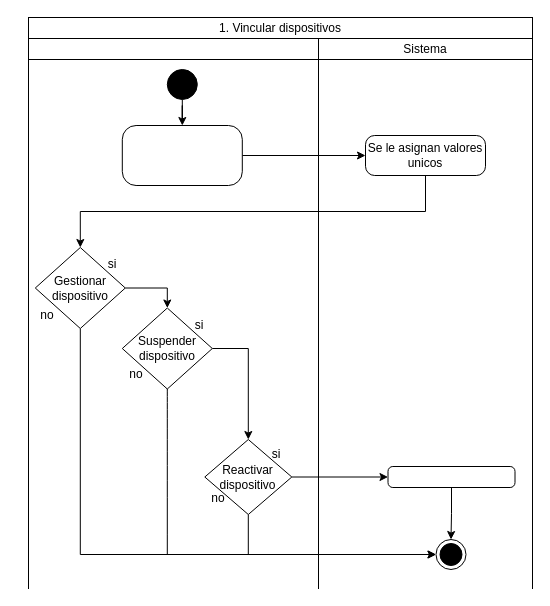
Some shapes in this 550 by 606 pixel diagram are drawn without their labels. The centre of each missing label's shape, as x and y in pixels:
Dispositivo reactivado: (451,477)
Registra un nuevo dispositivo: (181,155)
Usuario: (173,49)
